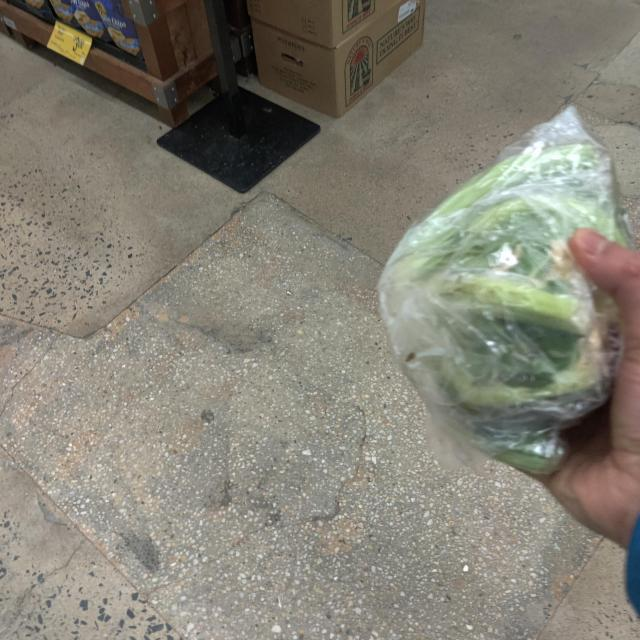Cauliflower: (378, 96, 640, 499)
